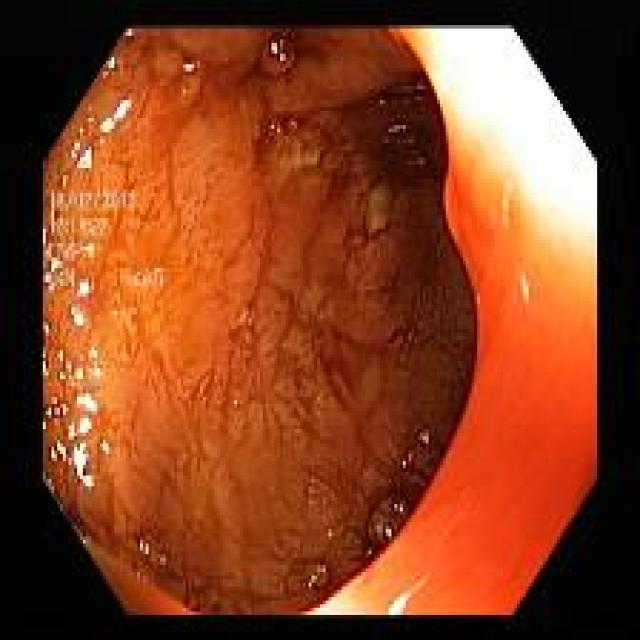ulcerative-colitis: (45, 31, 475, 613)
